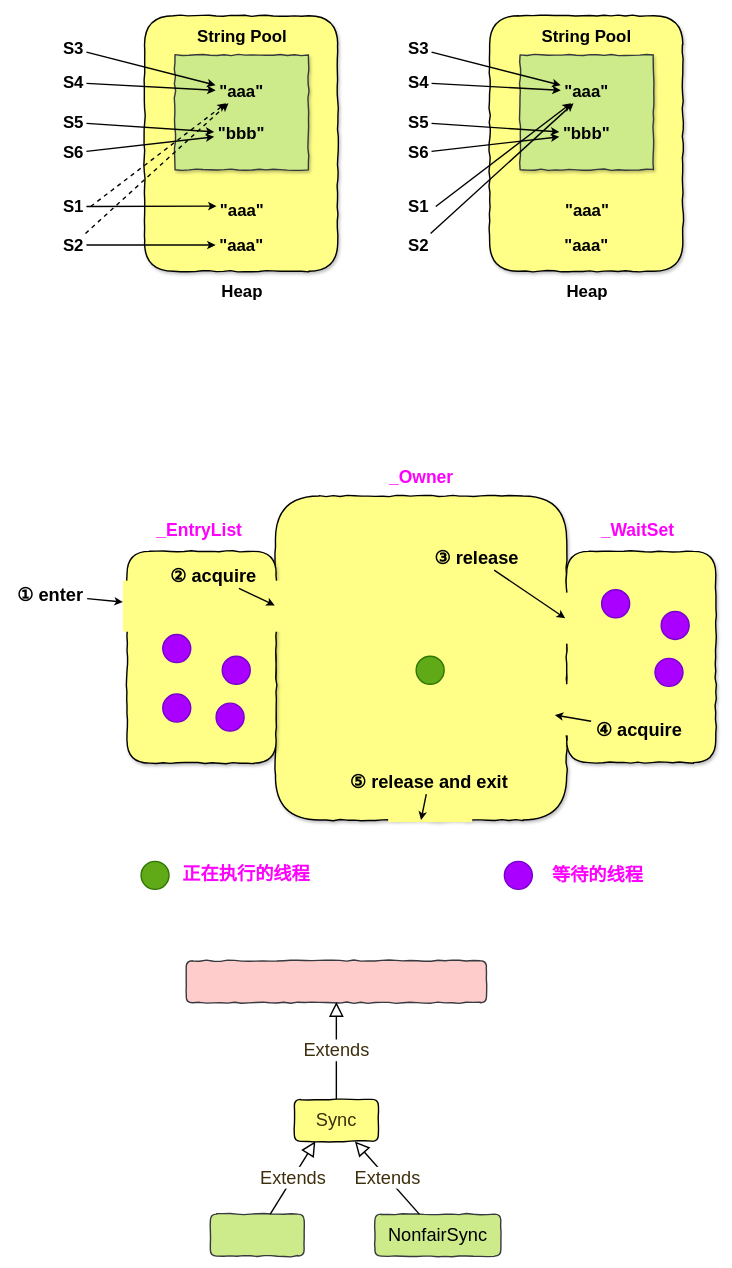
This 732x1268 diagram has some shape labels left out. The shapes that lost their labels are listed below. From the top down, each one's centre as x and y in pixels, then its label:
the point at 336,981: AbstractQueuedSynchronizer(AQS)
the point at 256,1234: FairSync
